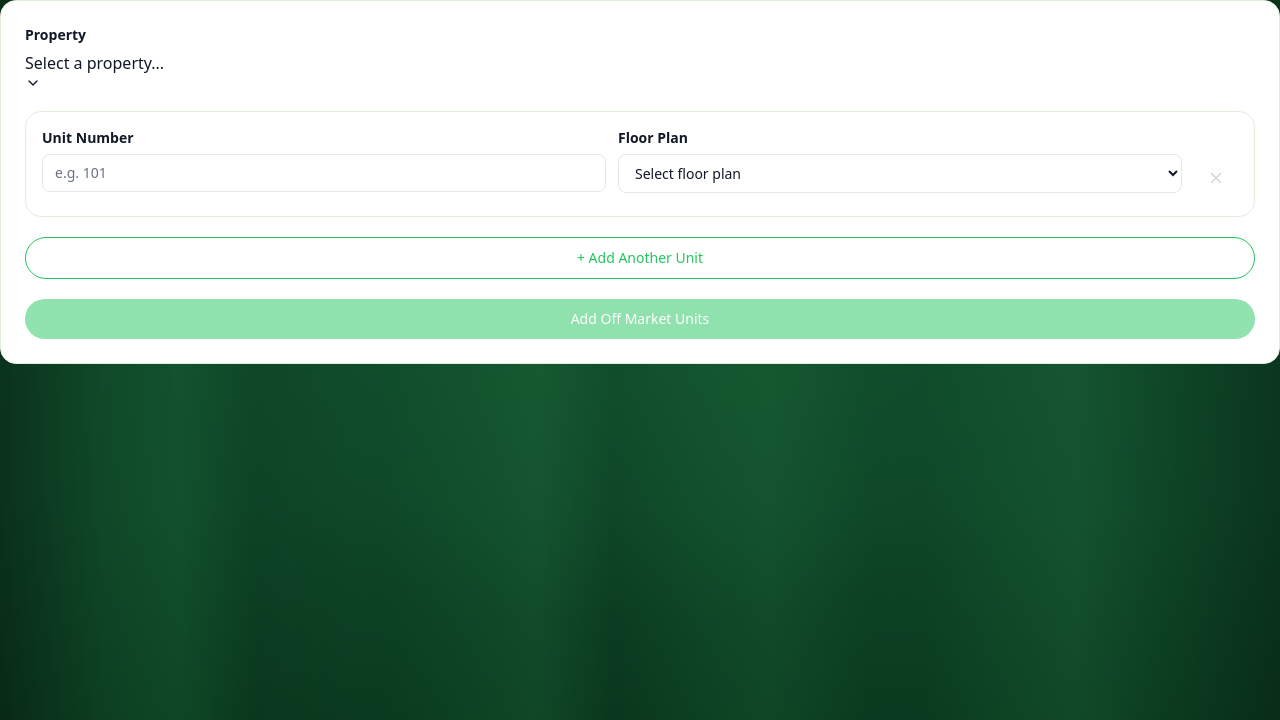
Test: AddVacantForm › shows 'Add 1 Off Market Unit' when one unit row is fully filled
The width and height of the screenshot is (1280, 720).
Check: the button "Add Off Market Units" is disabled, box x1=25 y1=299 x2=1255 y2=339
# Fill in unit number
Type "101" into the field with placeholder "e.g. 101" at (324, 173), box x1=42 y1=154 x2=606 y2=192
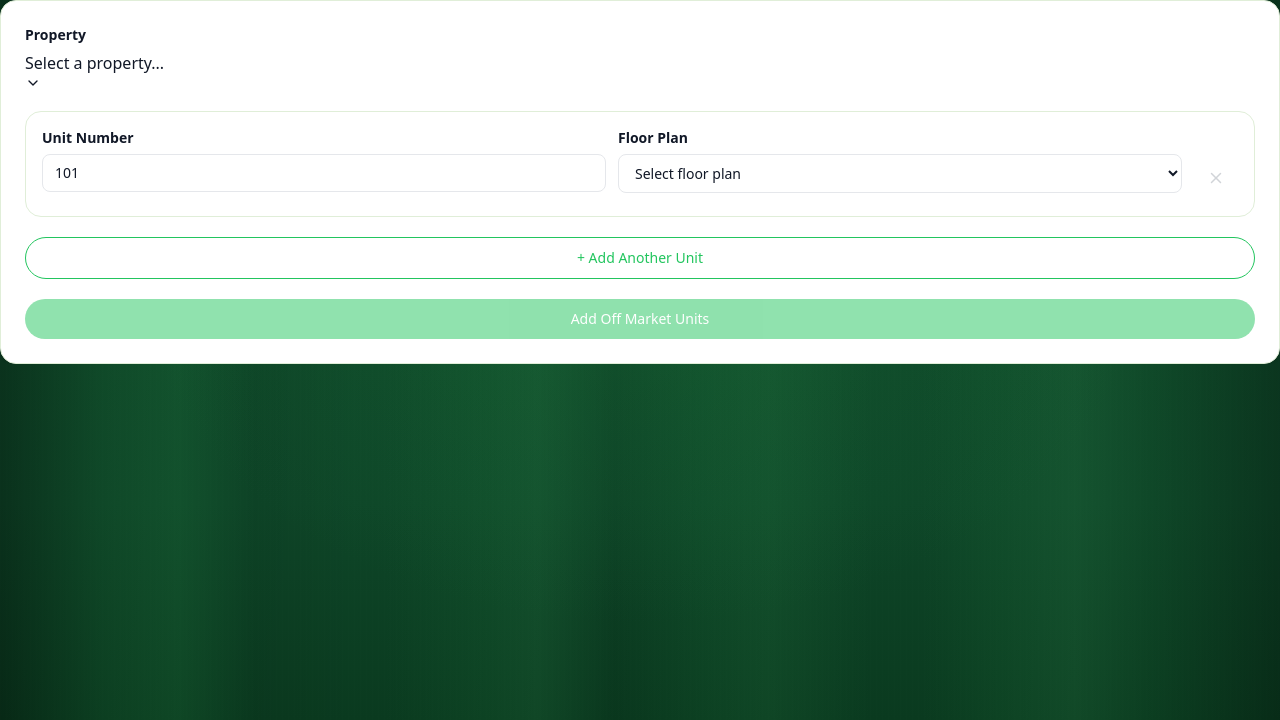
# Select floor plan
Select "1br 1ba" in the dropdown at (900, 174), box x1=618 y1=154 x2=1182 y2=193
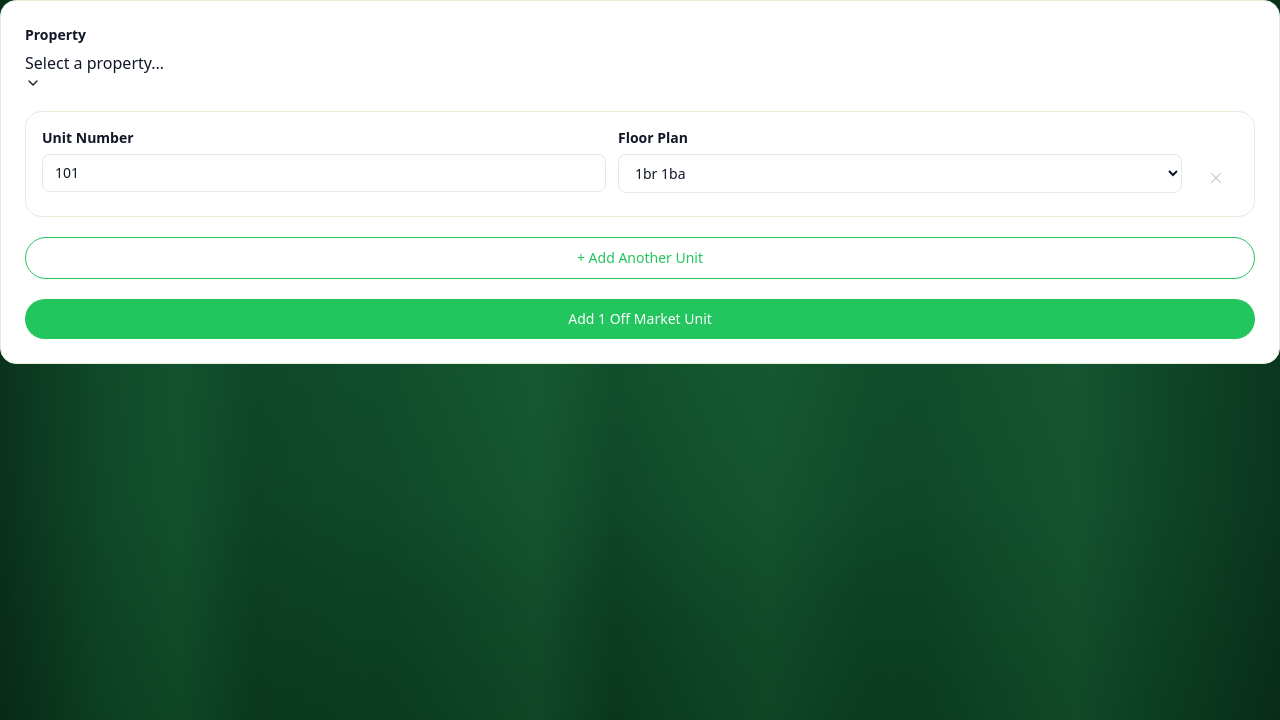
Check: the button "Add 1 Off Market Unit" is enabled, box x1=25 y1=299 x2=1255 y2=339
